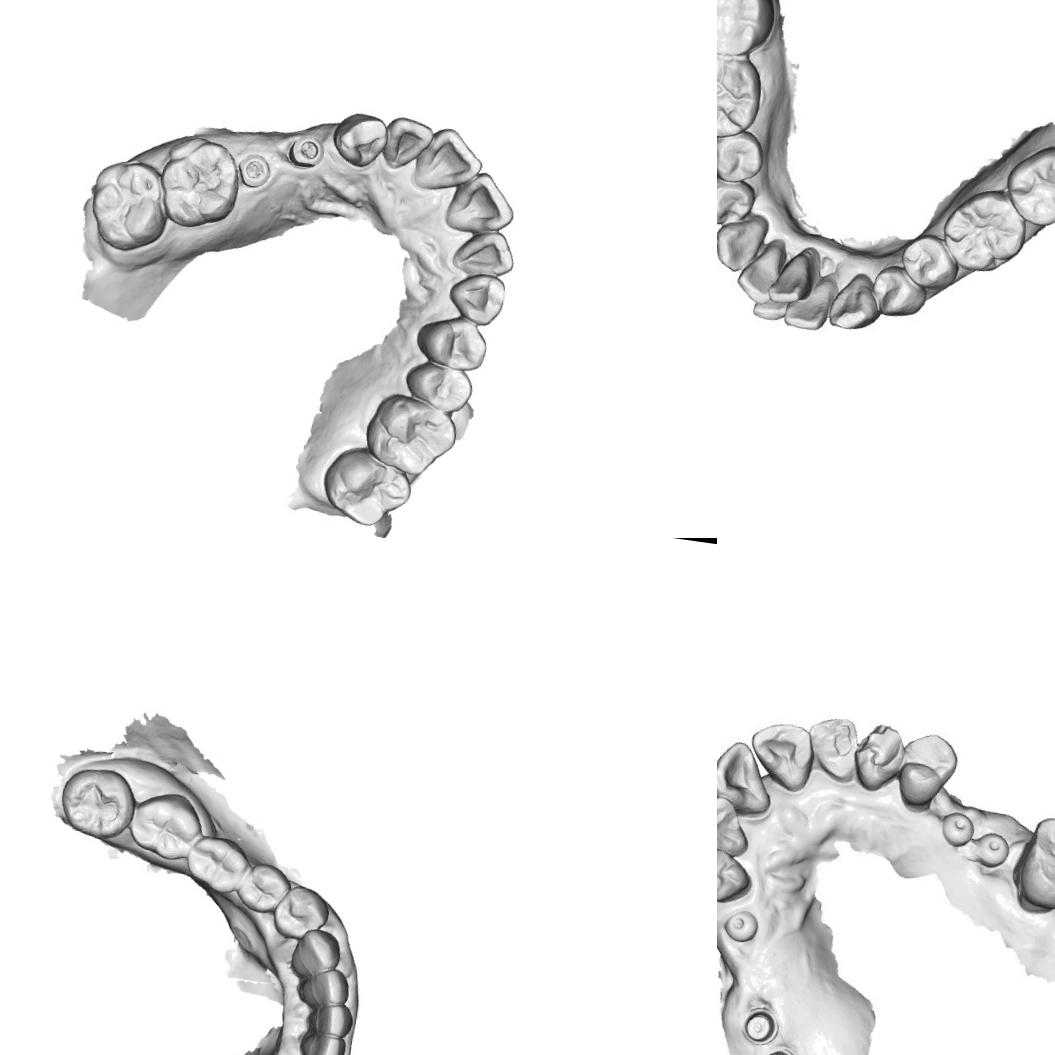canine: (849, 717, 909, 798), (824, 266, 886, 339), (330, 102, 390, 173), (444, 267, 510, 328), (717, 209, 771, 277), (286, 924, 344, 982), (717, 842, 757, 907)
implant: (936, 807, 978, 851), (717, 907, 764, 946), (738, 1006, 782, 1044), (974, 828, 1011, 872), (293, 132, 326, 170), (242, 152, 272, 190), (758, 1044, 799, 1055)
incisor: (742, 718, 819, 798), (413, 125, 487, 196), (717, 735, 777, 819), (444, 168, 516, 236), (802, 708, 864, 786), (781, 265, 836, 334), (732, 236, 786, 306), (454, 223, 520, 279), (763, 245, 818, 310), (378, 114, 437, 174), (294, 964, 355, 1013), (717, 791, 755, 859), (302, 997, 357, 1043), (293, 1028, 347, 1055), (748, 293, 792, 326)
molar: (362, 388, 458, 484), (940, 182, 1033, 278), (82, 156, 171, 256), (319, 443, 411, 534), (158, 138, 242, 230), (54, 761, 140, 845), (125, 786, 207, 866), (998, 137, 1055, 233), (717, 49, 768, 145), (182, 830, 254, 898), (1011, 812, 1055, 915), (717, 0, 783, 62)
premolar: (893, 728, 964, 810), (410, 309, 493, 374), (896, 229, 964, 296), (270, 882, 332, 943), (403, 360, 473, 412), (232, 858, 292, 918), (870, 262, 924, 321), (717, 127, 768, 185), (717, 172, 759, 230)
